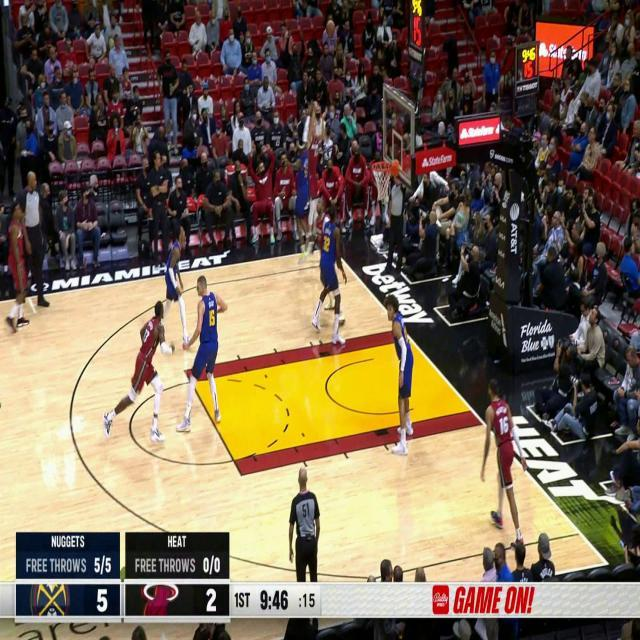rim: (326, 18, 335, 38)
